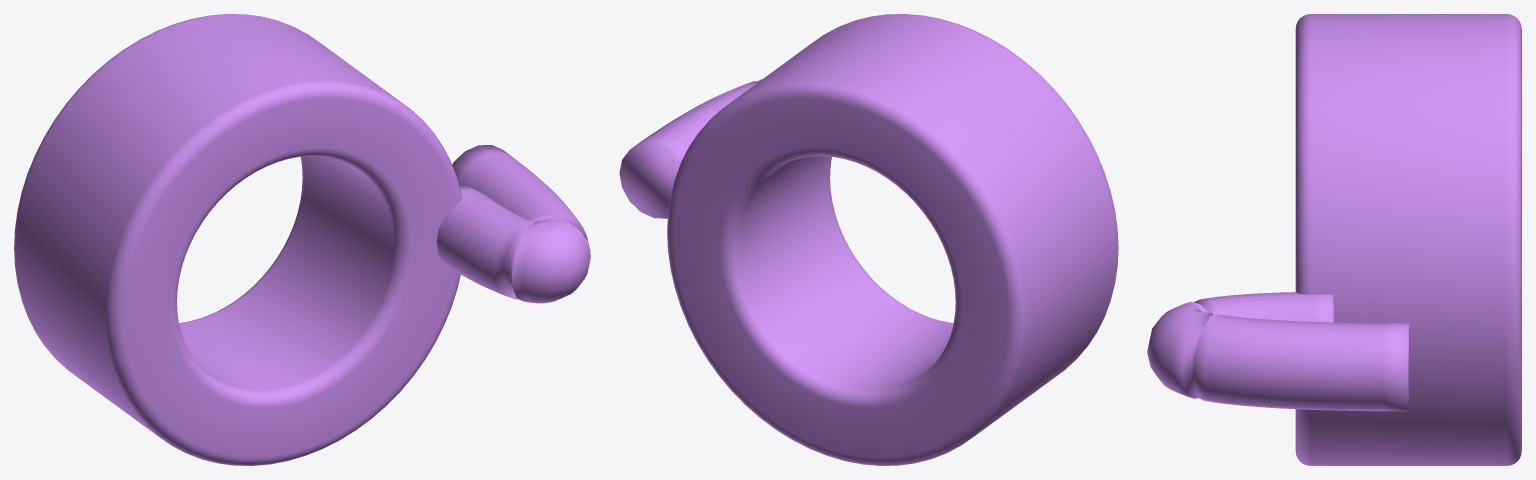
The model's file is clasp-bk7KWkOd.glb.
3 renders of one model, left to right at view 1: azimuth 30°, elevation 25°; view 2: azimuth 150°, elevation 25°; view 3: azimuth 270°, elevation 25°, orthographic. The views are drawn at different scales.
Visible parts, largest first — view 1: R3D_Clasp; view 2: R3D_Clasp; view 3: R3D_Clasp.
Part boxes in pixels (left/top/right/bottom): R3D_Clasp: left=14, top=14, right=590, bottom=465; R3D_Clasp: left=619, top=14, right=1118, bottom=465; R3D_Clasp: left=1147, top=14, right=1521, bottom=465.
Bounding box in the file's own units: 0.455 × 0.36 × 0.2982.
